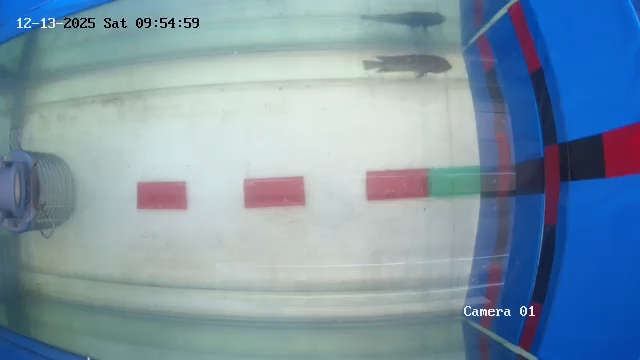fish: (356, 40, 459, 91)
